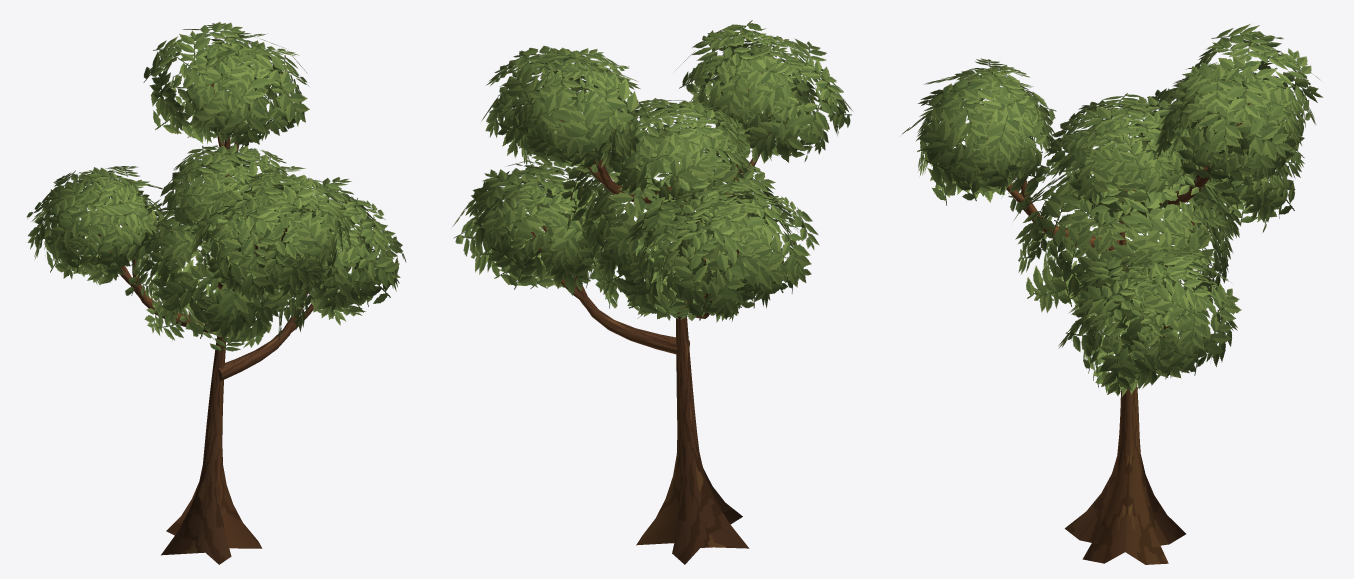
The model's file is oak_sapling.glb.
The picture shows the model from 3 angles, left to right: view 1: azimuth 30°, elevation 25°; view 2: azimuth 150°, elevation 25°; view 3: azimuth 270°, elevation 25°; orthographic projection. The views are drawn at different scales.
Parts seen in each view (by area): view 1: oak_sapling; view 2: oak_sapling; view 3: oak_sapling.
Part boxes in pixels (<box>): oak_sapling: <box>27,22,405,564</box>; oak_sapling: <box>452,20,852,564</box>; oak_sapling: <box>902,24,1322,564</box>.
Bounding box in the file's own units: 2.51 × 3.27 × 2.45.
Materials: 2 (2 with a texture image).
